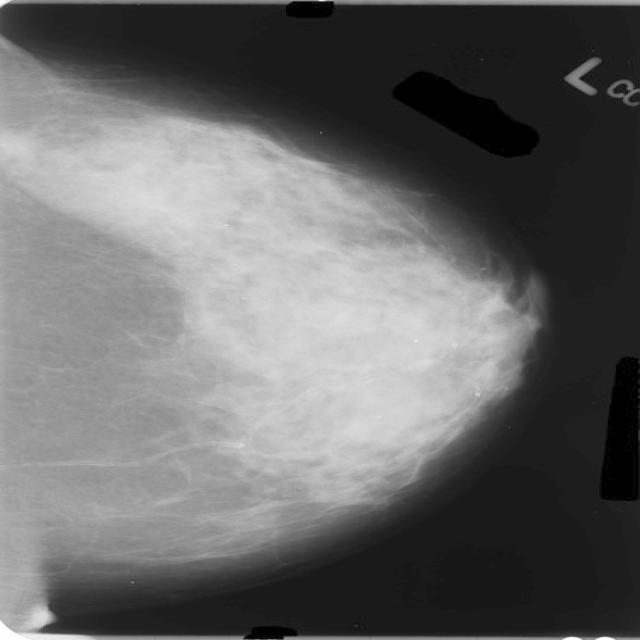tumour: (0, 126, 39, 157)
